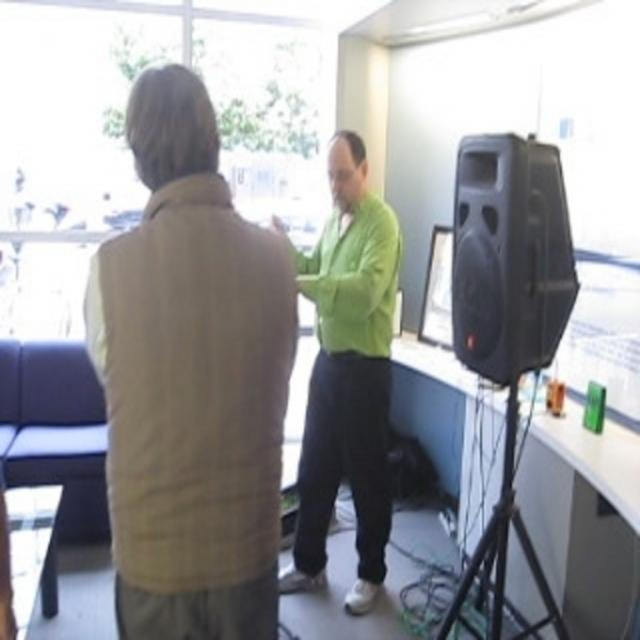desk: (390, 331, 638, 637)
person: (83, 60, 301, 638), (277, 130, 402, 618)
tv: (450, 134, 580, 387)
